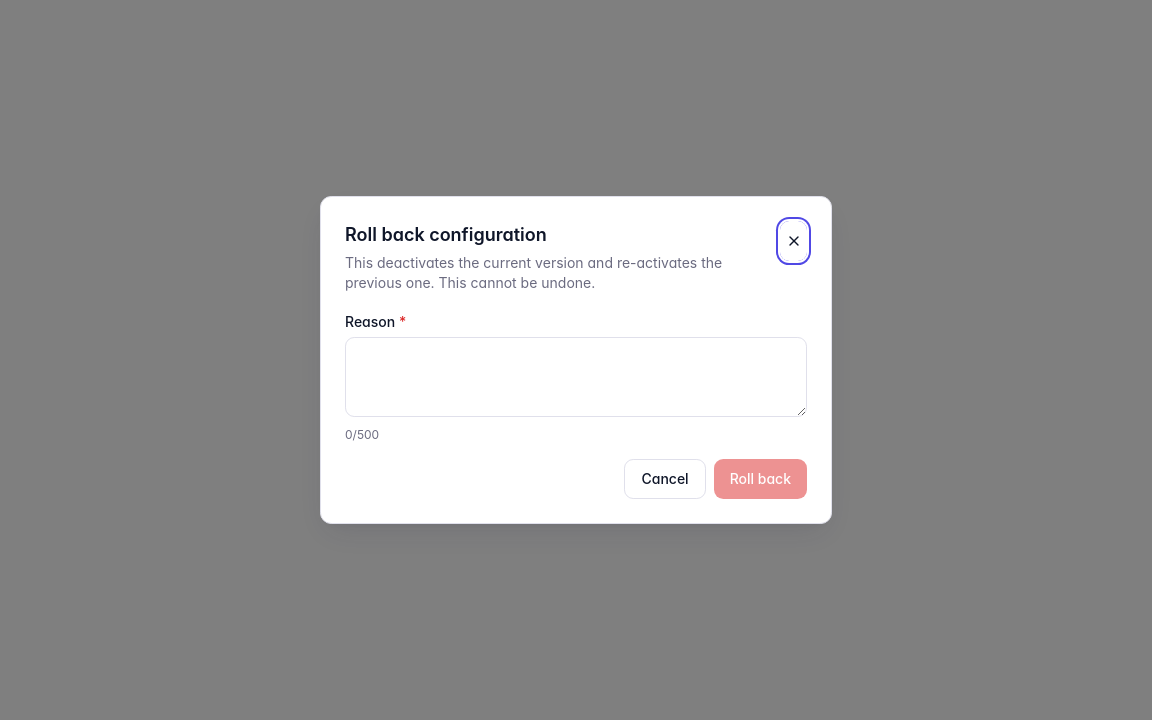
Scenario: RollbackConfirmDialog › surfaces the CONFLICT (not active / already rolled back) error in-dialog
Type "stale" into the text box labelled "Reason *". click: (576, 377)
box: [345,337,807,417]
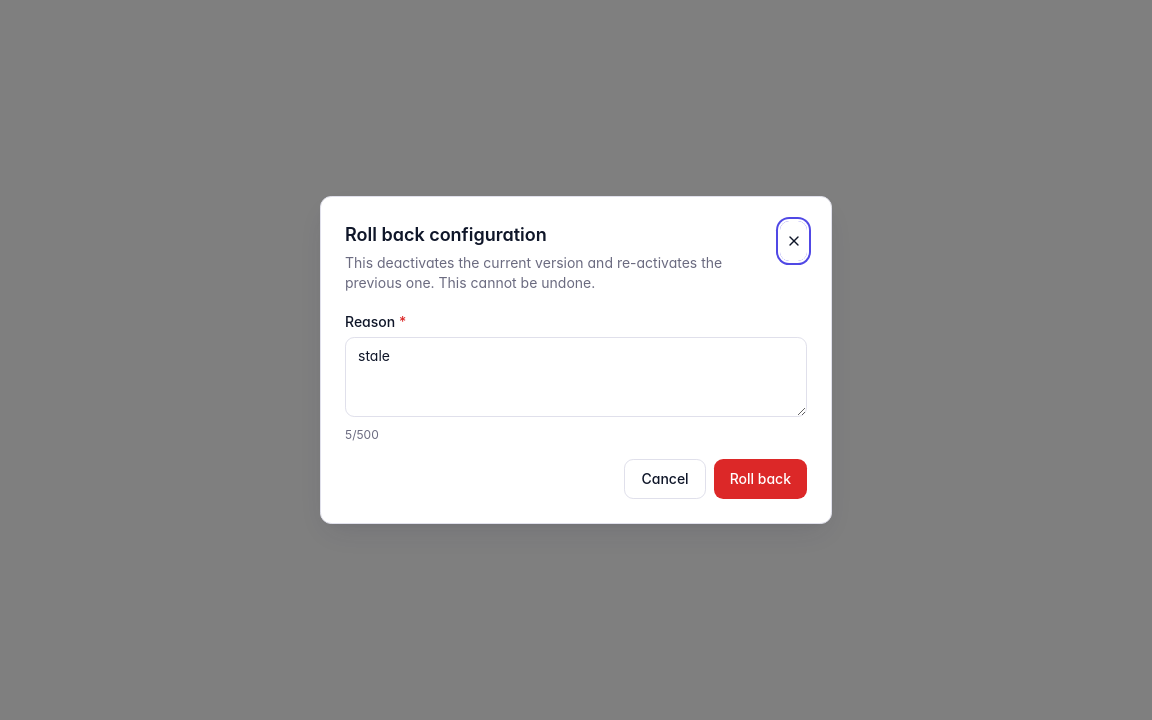
Click the button "Roll back". click: click(760, 479)
box: [714,459,807,499]
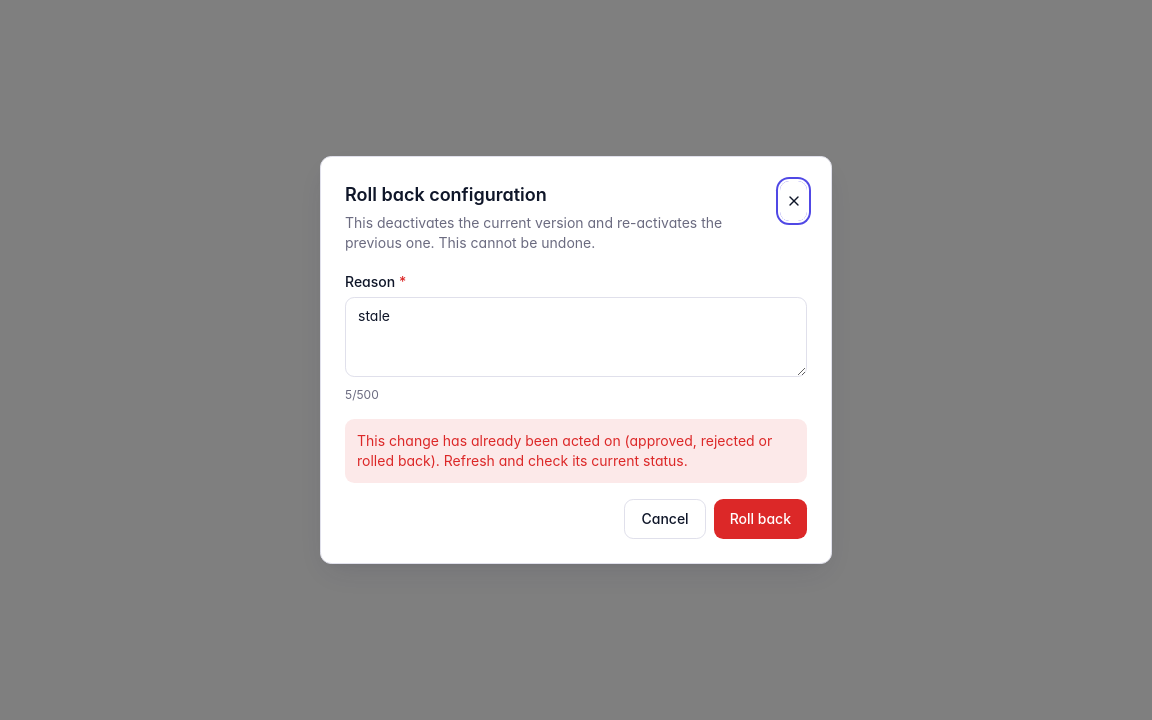
Expected: the text "already been acted on" is shown, [357,432,772,469]
